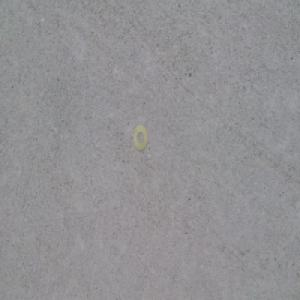Washer: (134, 124, 149, 152)
